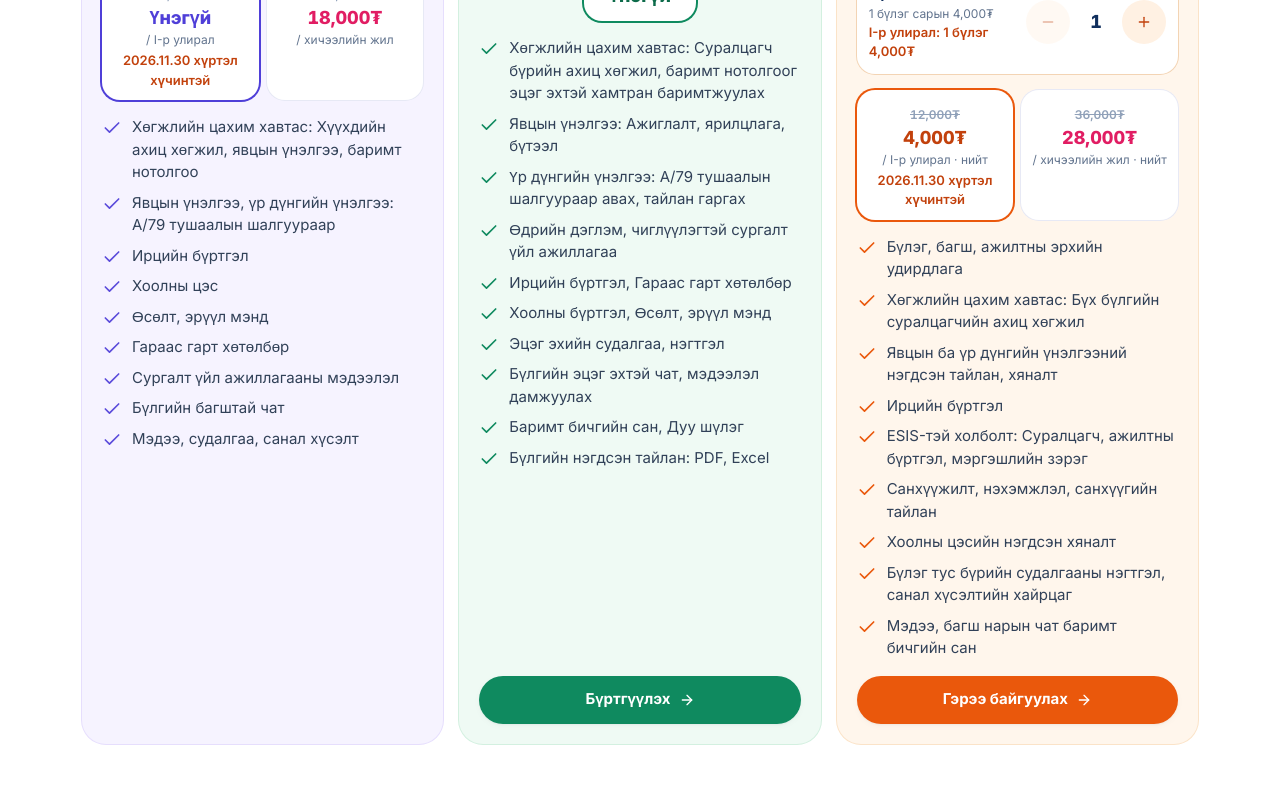
the pricing page › opens the organisation and teacher windows, and offers the child none
(page scrolled)
What coordinates should you click on to do the following:
click the button "Гэрээ байгуулах"
I would click on:
 (1017, 700)
Its box is [857, 676, 1178, 724].
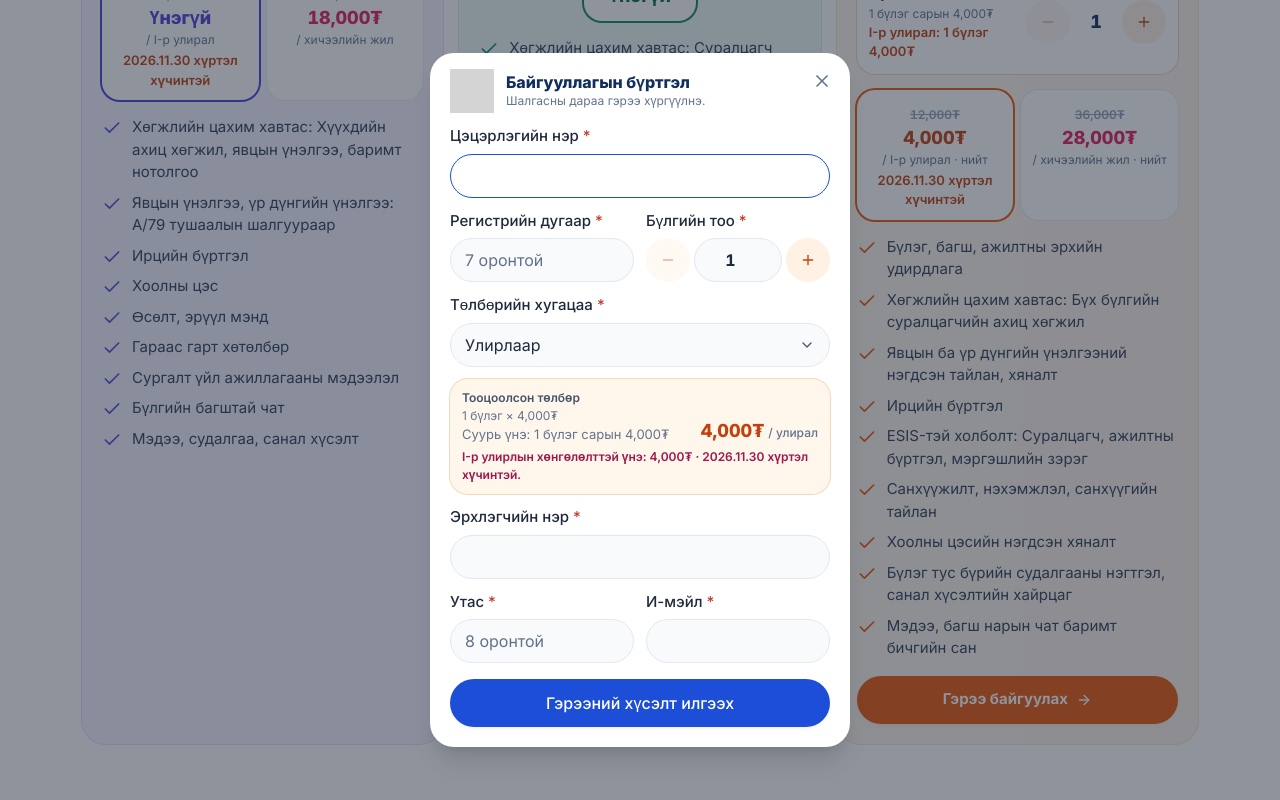
What coordinates should you click on to do the following:
click the button named "Хаах"
I would click on:
 (822, 81)
Its box is [802, 61, 842, 101].
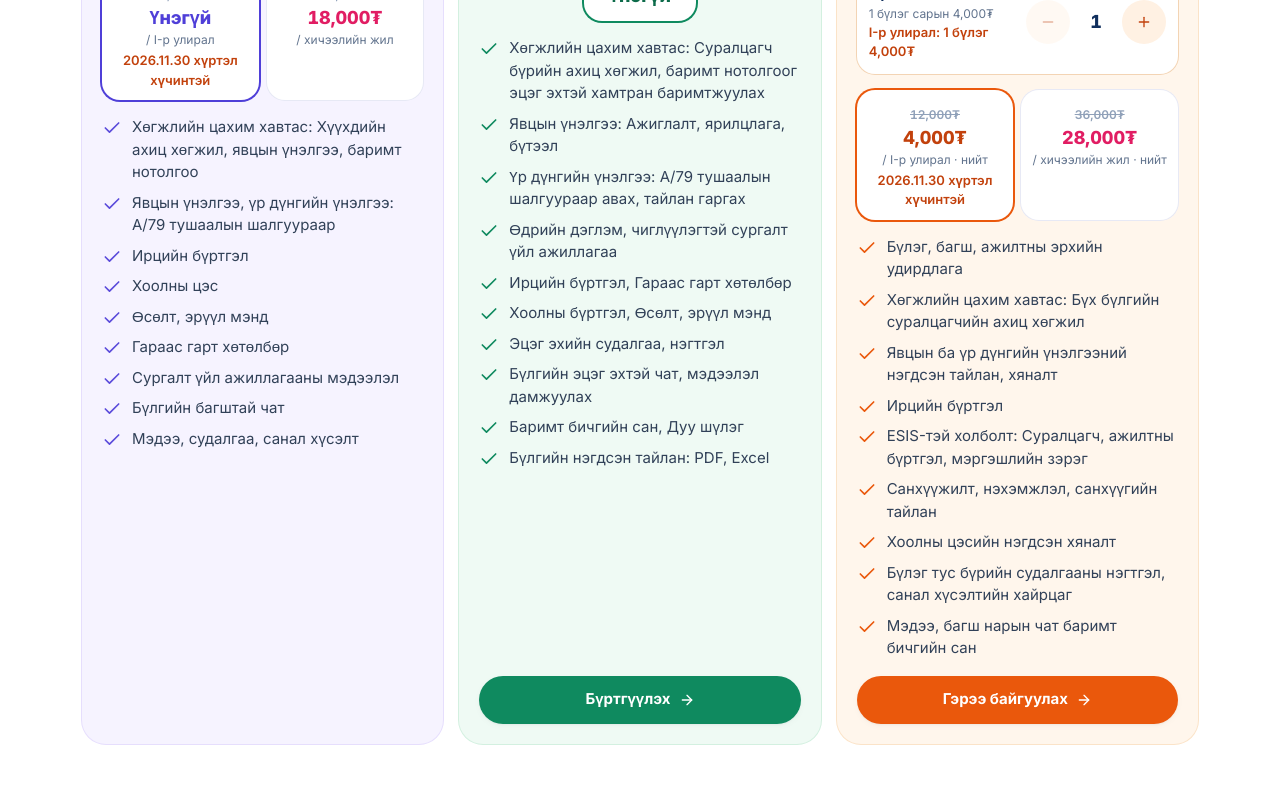
What coordinates should you click on to do the following:
click the button "Бүртгүүлэх"
I would click on:
 (640, 700)
Its box is [479, 676, 801, 724].
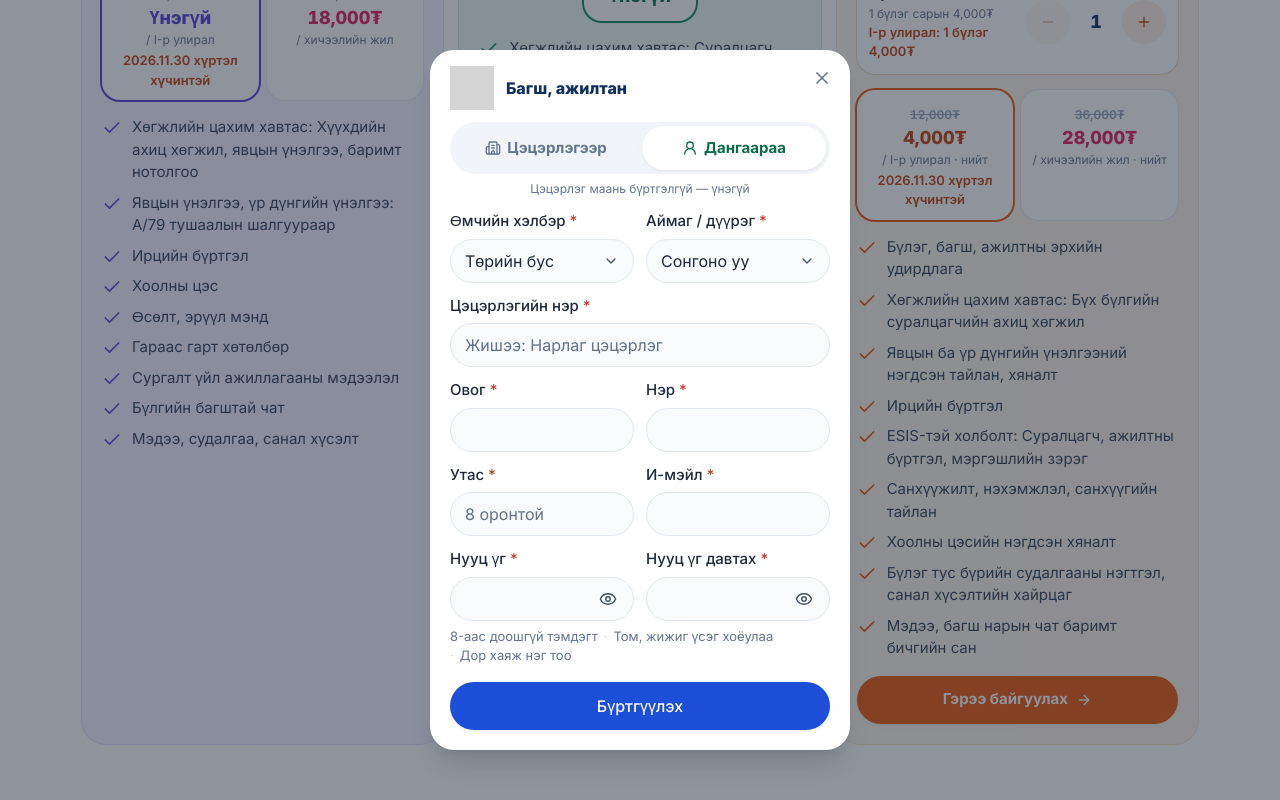
Result: the dialog "Багш, ажилтан" is shown
